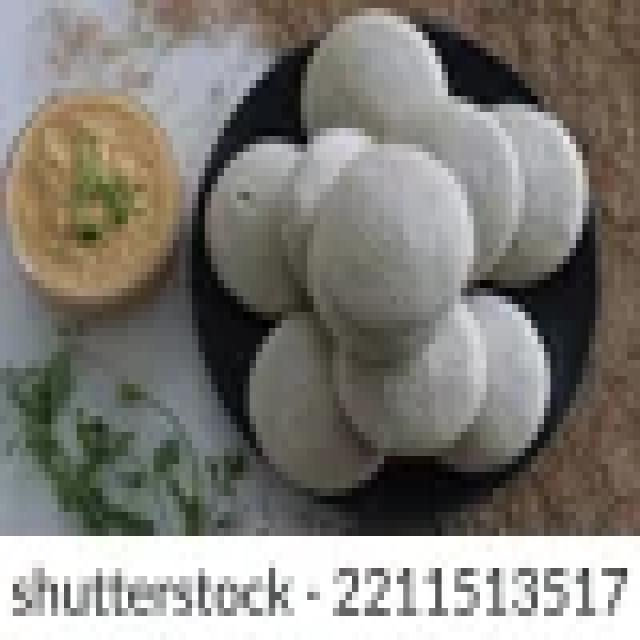IDLI: (307, 144, 467, 328), (250, 312, 378, 488), (333, 304, 480, 448), (301, 8, 442, 136), (442, 296, 544, 464), (486, 104, 582, 280), (422, 96, 518, 272), (205, 144, 294, 304), (282, 128, 365, 280)
